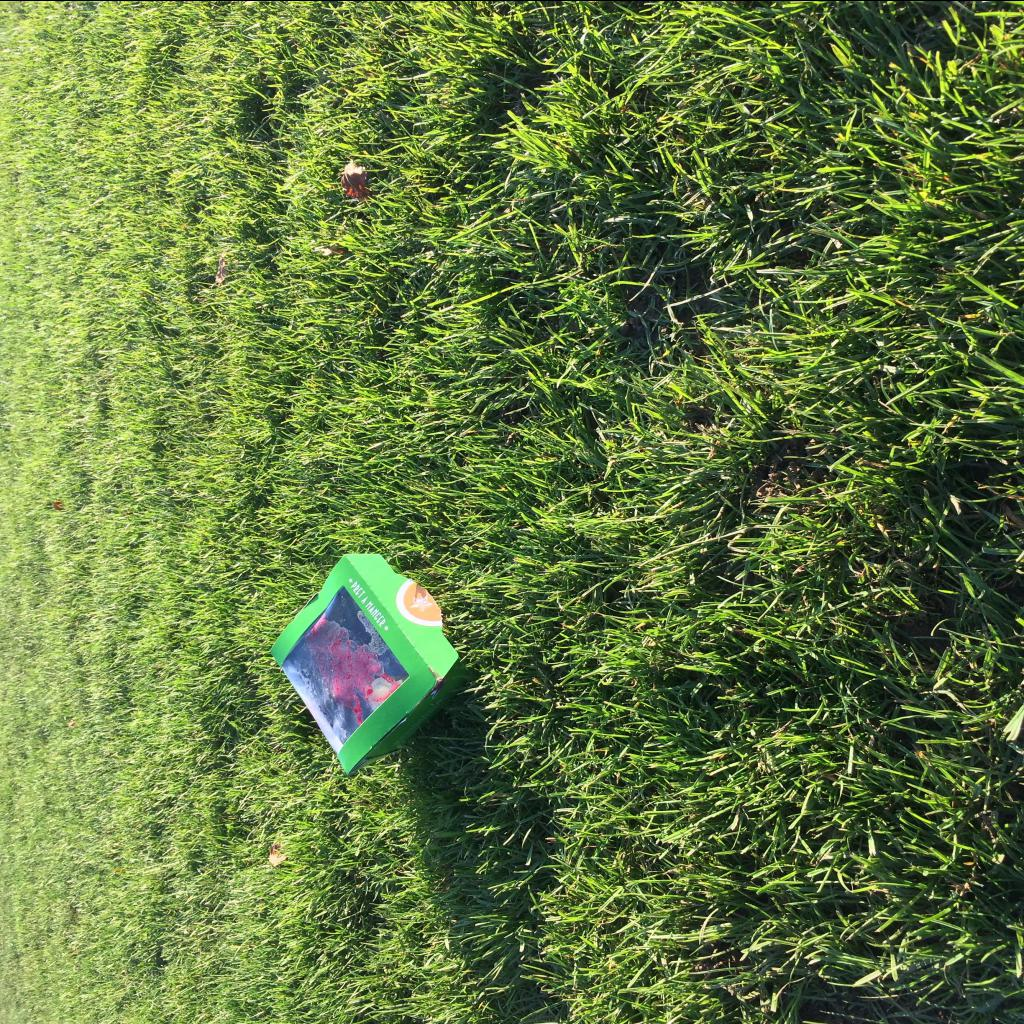Meal carton: (270, 552, 470, 774)
Plastic film: (282, 586, 408, 754)
